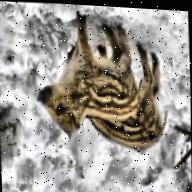boar: (37, 2, 152, 134), (85, 40, 190, 156)
